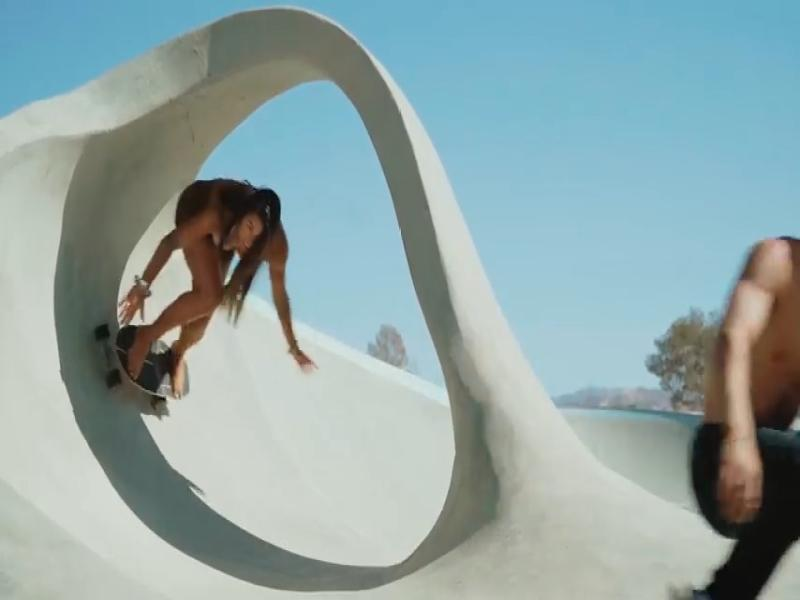person: (120, 179, 314, 395), (692, 238, 800, 599), (706, 240, 800, 523)
skate: (90, 314, 192, 418)
